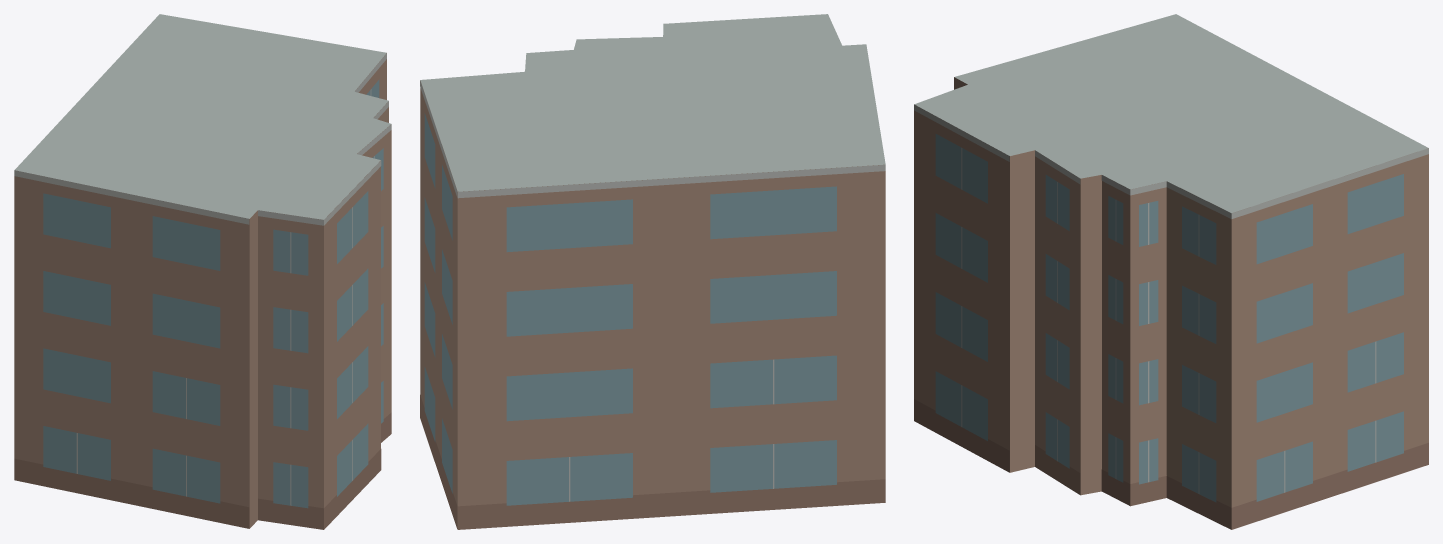
File: survey-upis-32630655.glb
3 views of the same model, side by side, from view 1: azimuth 30°, elevation 25°; view 2: azimuth 150°, elevation 25°; view 3: azimuth 270°, elevation 25° (orthographic). The views are drawn at different scales.
Parts seen in each view (by area): view 1: survey-upis-32630655.tmp; view 2: survey-upis-32630655.tmp; view 3: survey-upis-32630655.tmp.
Part boxes in pixels (<box>): survey-upis-32630655.tmp: <box>14,14,391,529</box>; survey-upis-32630655.tmp: <box>420,14,885,529</box>; survey-upis-32630655.tmp: <box>914,14,1428,529</box>.
Bounding box in the file's own units: 17.28 × 12.8 × 18.86.
